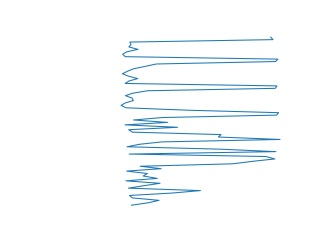crevasseRiverChannelBar: (125, 160, 264, 207)
majorRiverBedLagDeposit: (118, 117, 284, 161)
majorRiverChannelBar: (116, 35, 282, 115)
